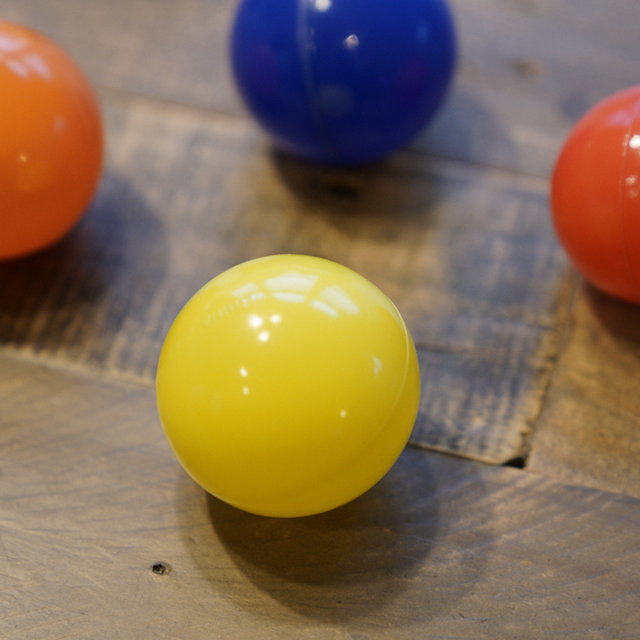Ball: (155, 255, 421, 520)
